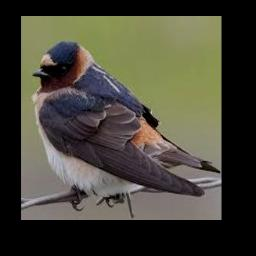Swallow: (31, 41, 221, 199)
